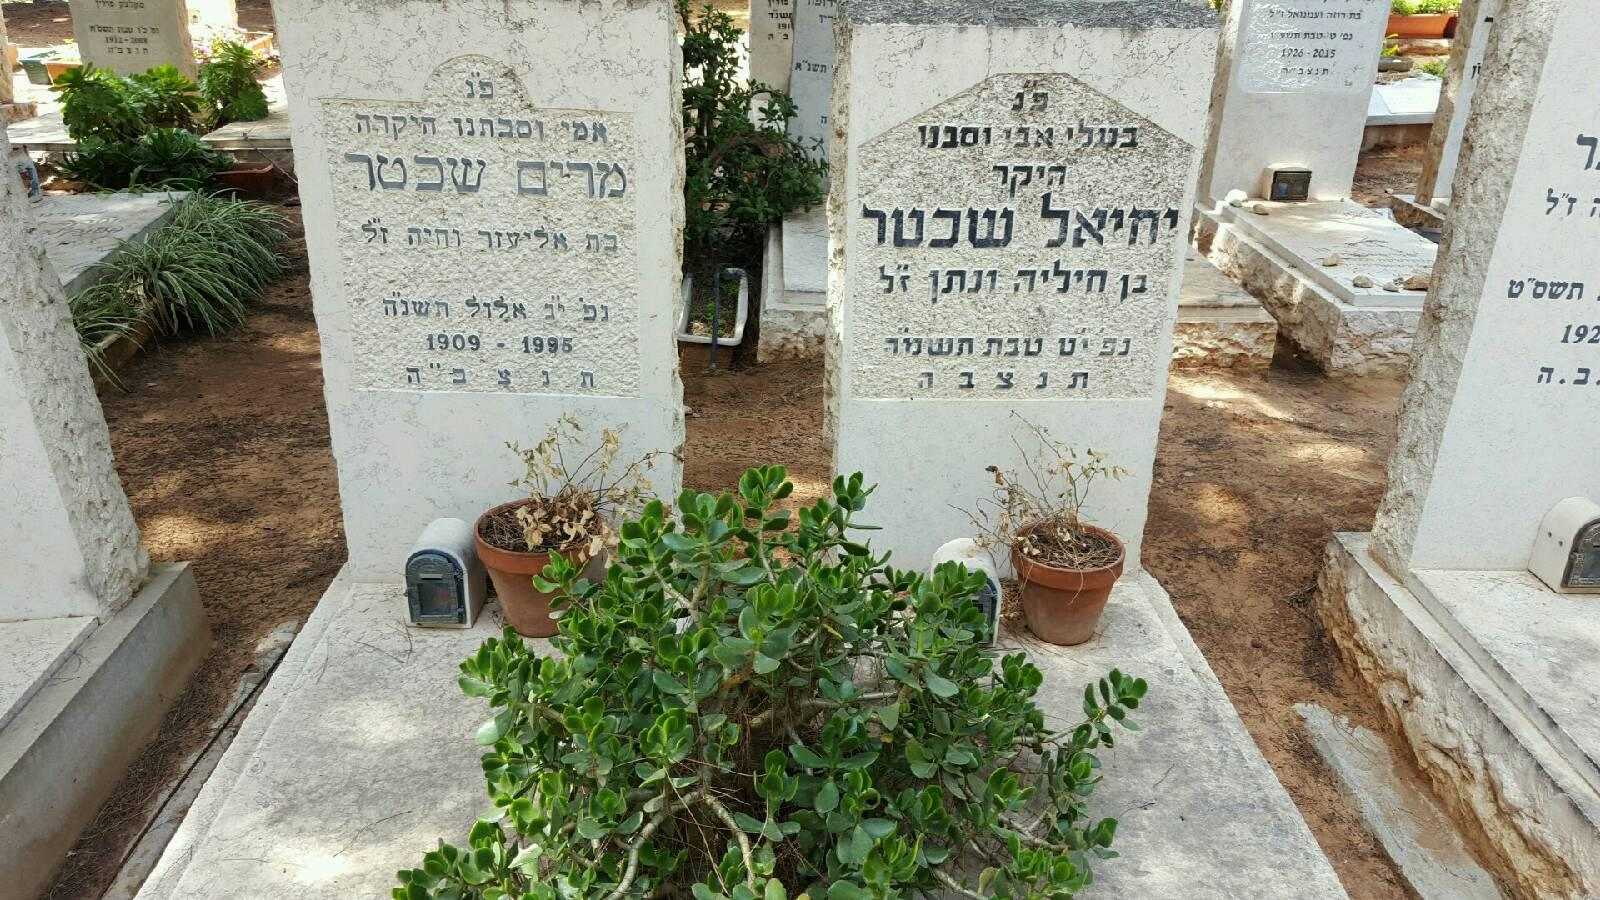vault: (832, 5, 1353, 900)
